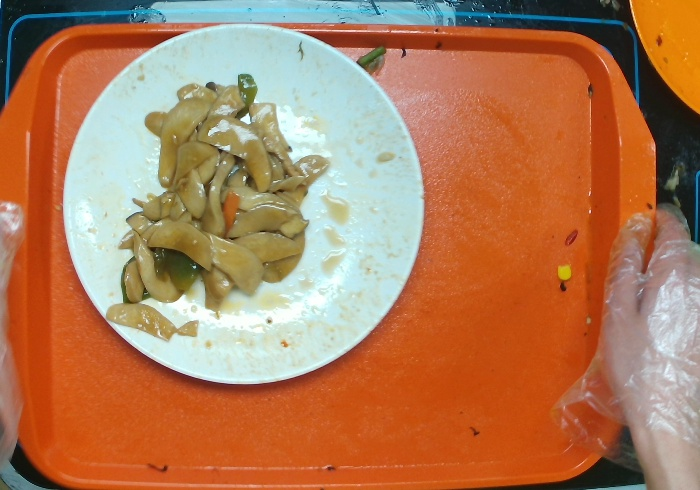HZYJPL-Bai_Se_Yuan_Pan: (56, 16, 431, 392)
